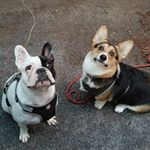puppy: (77, 21, 150, 116), (1, 39, 58, 147)
